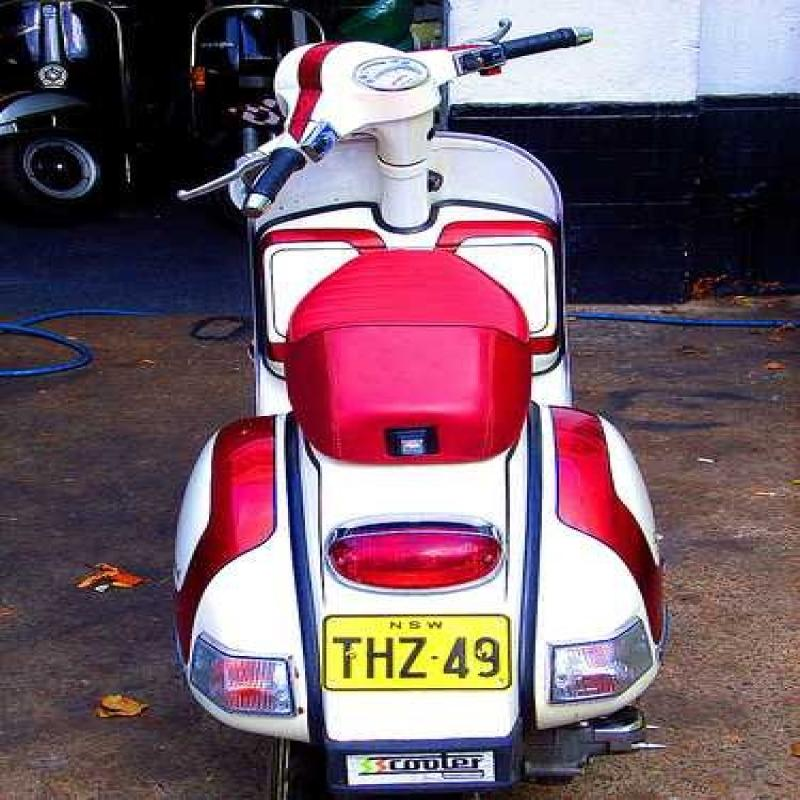bike: (162, 7, 690, 800)
